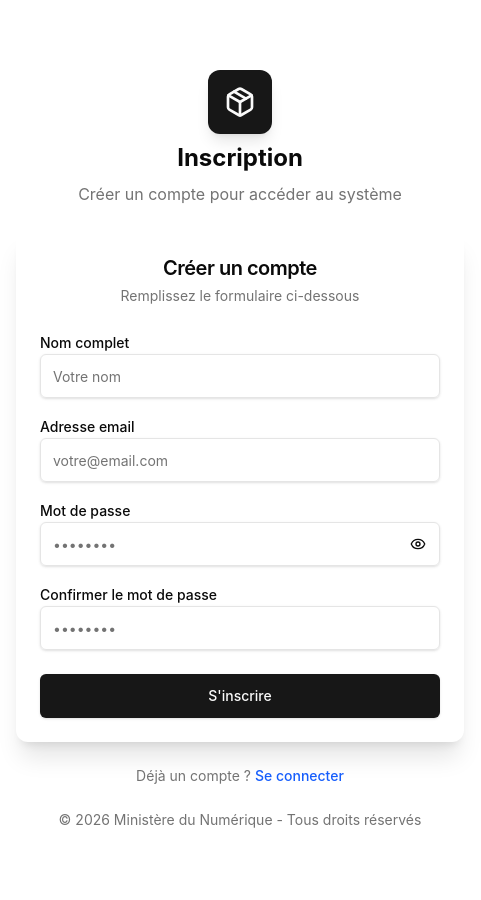
Test: Register Component › submits form successfully and shows success message
Type "Jean Dupont" into the field labelled "Nom complet".
click(240, 376); type("Jean Dupont")  # box x1=40 y1=354 x2=440 y2=398
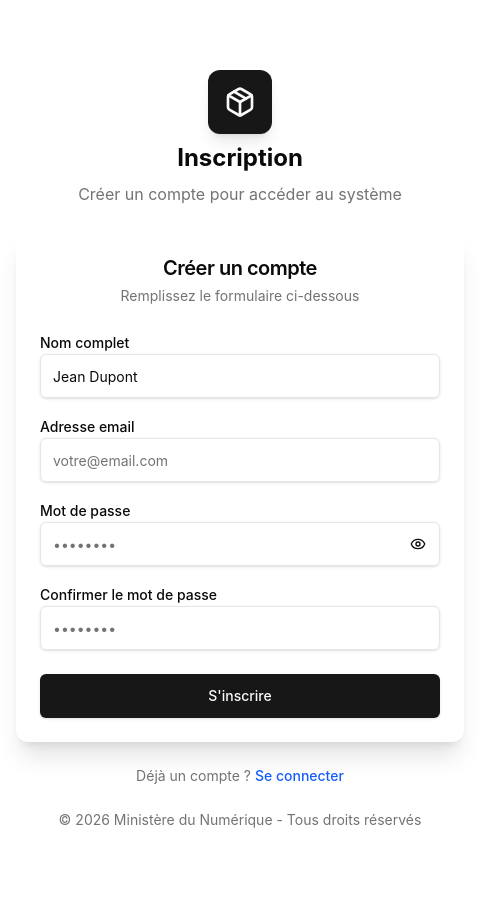
Type "jean@example.com" into the field labelled "Adresse email".
click(240, 460); type("jean@example.com")  # box x1=40 y1=438 x2=440 y2=482
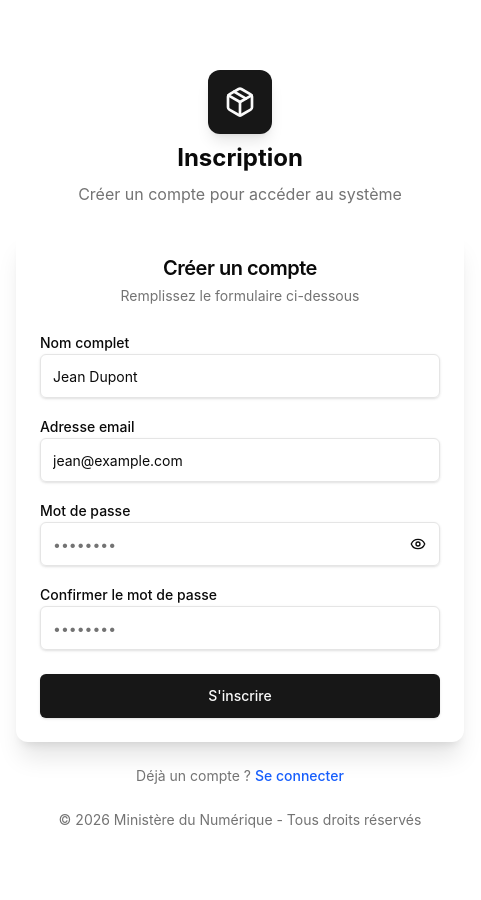
Type "StrongP@ssw0rd!" into the password field labelled "Mot de passe".
click(240, 544); type("StrongP@ssw0rd!")  # box x1=40 y1=522 x2=440 y2=566
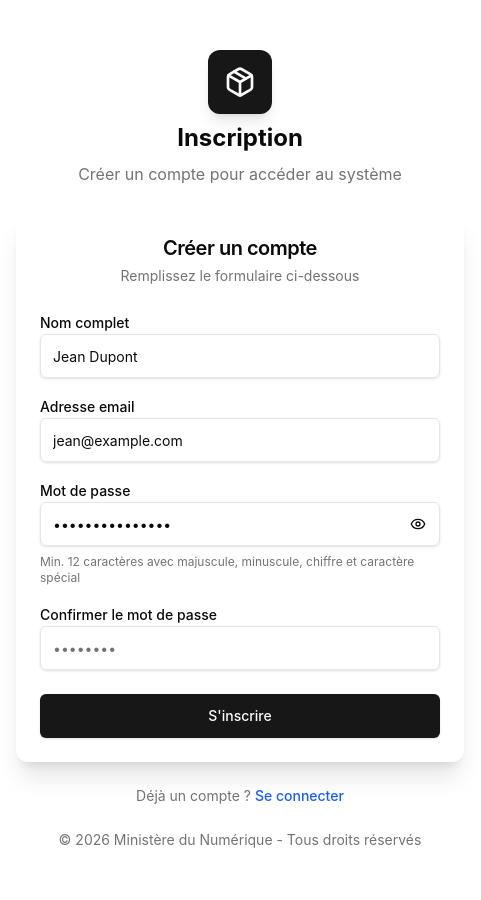
Type "StrongP@ssw0rd!" into the password field labelled "Confirmer le mot de passe".
click(240, 648); type("StrongP@ssw0rd!")  # box x1=40 y1=626 x2=440 y2=670
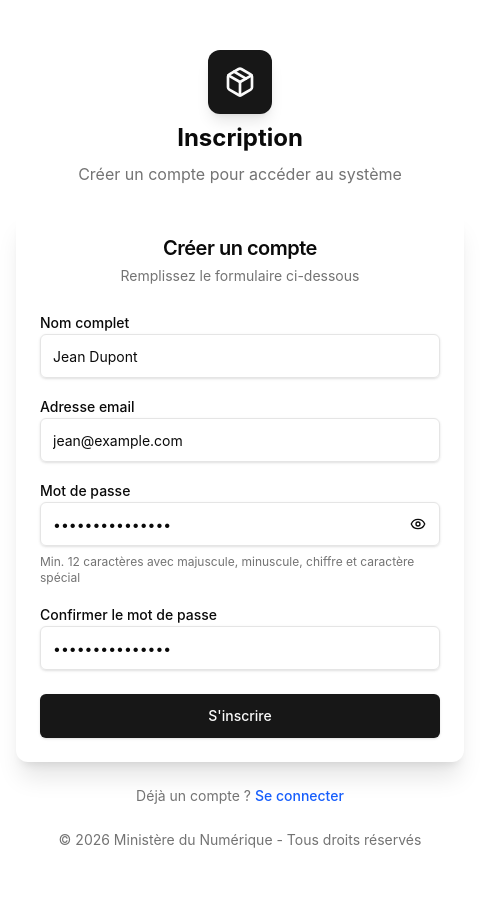
Submit the form named "S'inscrire", box x1=16 y1=310 x2=464 y2=762
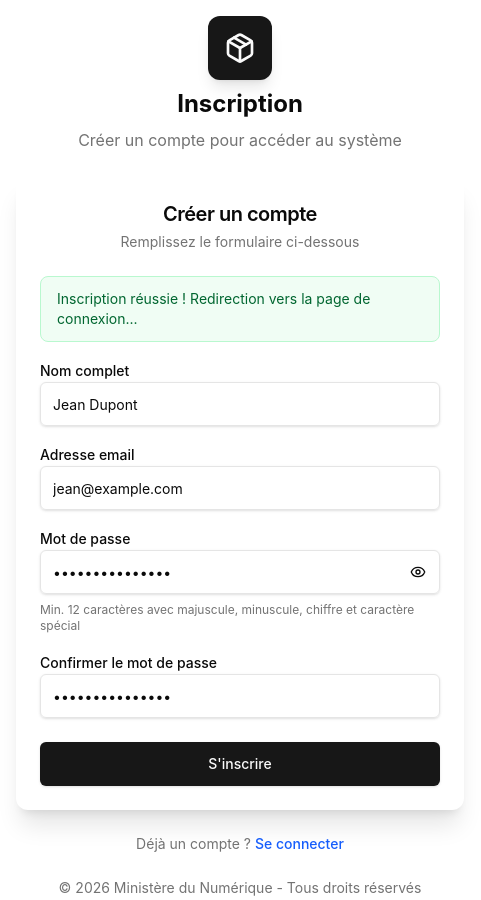
Expected: the text "Inscription réussie !" is shown, x1=57 y1=290 x2=370 y2=327
